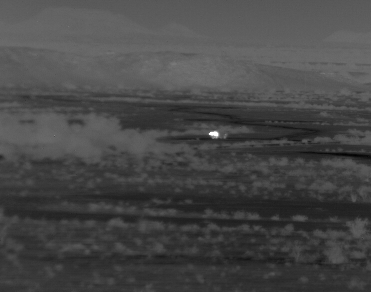Target: (209, 132, 218, 139)
